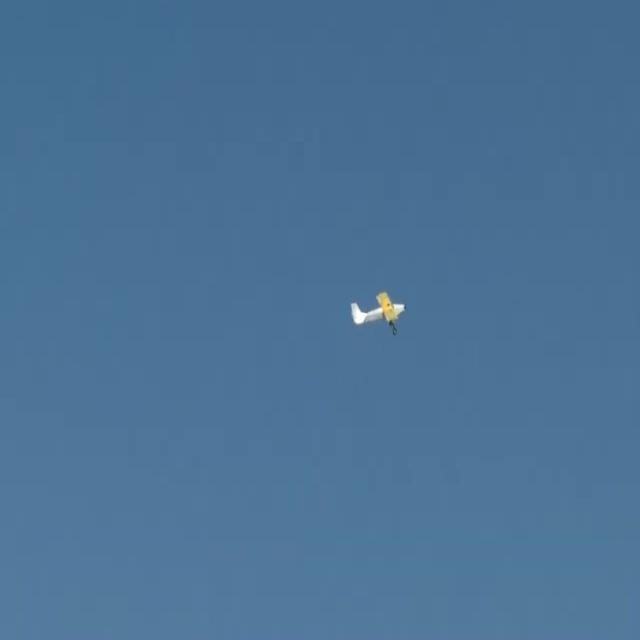iha: (350, 290, 408, 338)
